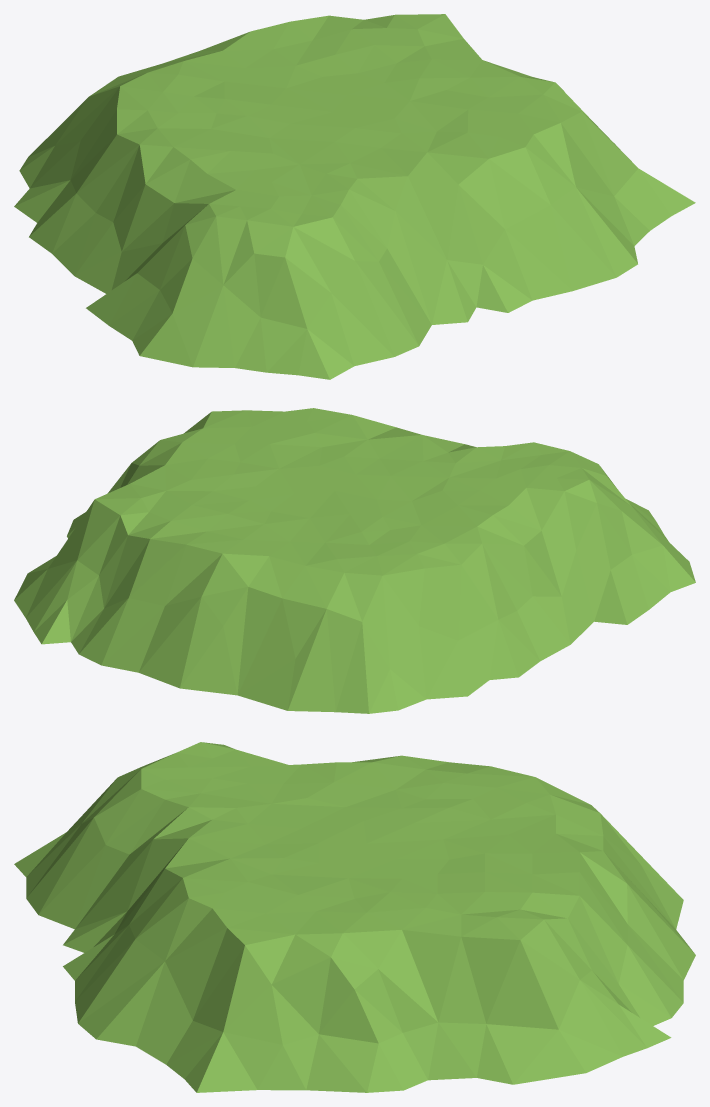
File: MT_Island_M_a_03_LOD.fbx
The picture shows the model from 3 angles, top to bottom: view 1: azimuth 30°, elevation 25°; view 2: azimuth 150°, elevation 25°; view 3: azimuth 270°, elevation 25°; orthographic projection. The views are drawn at different scales.
Visible parts, largest first — view 1: MT_Island_M_a_03_LOD0; view 2: MT_Island_M_a_03_LOD0; view 3: MT_Island_M_a_03_LOD0.
Boxes of the visible parts, x1,y1,x2,y2 form: MT_Island_M_a_03_LOD0: (14,14,695,379); MT_Island_M_a_03_LOD0: (14,408,695,713); MT_Island_M_a_03_LOD0: (14,742,695,1092).
Size of what is drawn, in the model's own units: 4578 by 798 by 4498.
